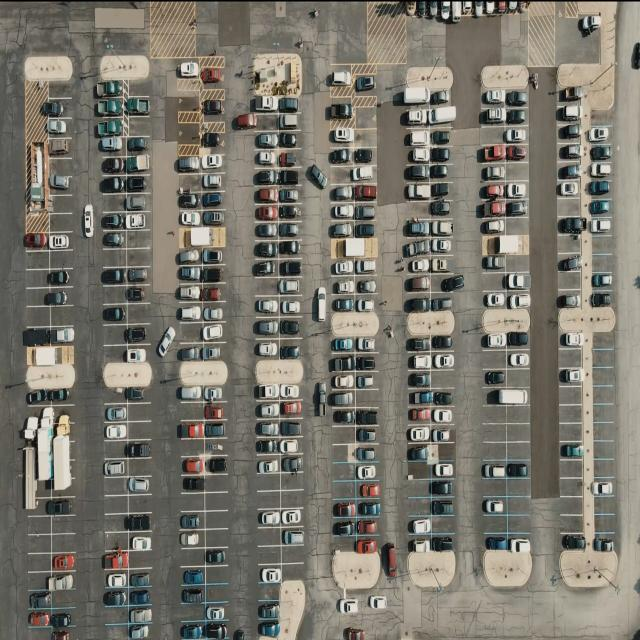space-empty: (26, 306, 52, 328), (50, 212, 76, 233), (126, 118, 153, 138), (253, 276, 280, 296), (197, 227, 224, 247), (354, 105, 377, 128), (103, 324, 128, 345), (50, 194, 76, 214), (178, 402, 204, 422), (505, 406, 531, 426), (125, 77, 152, 96), (125, 231, 152, 250), (404, 201, 431, 220), (128, 303, 151, 325), (51, 306, 75, 327), (178, 124, 202, 145), (101, 284, 126, 304), (27, 515, 52, 535), (481, 350, 506, 370), (508, 478, 533, 498), (508, 496, 533, 516), (177, 322, 202, 342), (506, 442, 531, 462), (557, 199, 583, 218), (479, 127, 505, 146), (104, 531, 130, 550), (28, 534, 54, 553), (332, 480, 358, 499), (26, 269, 50, 289), (103, 440, 127, 460), (28, 552, 52, 572), (560, 478, 584, 498), (259, 527, 283, 547), (332, 461, 356, 481), (206, 528, 230, 548), (129, 420, 153, 440), (482, 479, 507, 498), (557, 235, 582, 254), (179, 548, 204, 567), (179, 492, 204, 511), (482, 442, 507, 461), (103, 194, 128, 213), (103, 494, 128, 513), (407, 496, 432, 515), (408, 461, 434, 479), (179, 440, 205, 458), (126, 248, 152, 266), (559, 386, 582, 406), (590, 254, 613, 274), (593, 404, 616, 424), (130, 494, 153, 514), (592, 385, 615, 405), (259, 546, 282, 566), (105, 606, 132, 623), (559, 349, 583, 368), (506, 163, 530, 182), (560, 458, 584, 477), (104, 478, 128, 497), (206, 565, 230, 584), (26, 250, 50, 269), (508, 368, 532, 387), (259, 584, 283, 603), (592, 348, 616, 367), (508, 515, 532, 534), (104, 514, 128, 533), (333, 425, 357, 444), (48, 159, 72, 178), (558, 272, 582, 291), (592, 366, 616, 385), (205, 475, 229, 494), (130, 551, 154, 570), (206, 511, 230, 530), (592, 332, 616, 351), (205, 584, 229, 603), (102, 248, 127, 266), (255, 113, 280, 131), (432, 516, 457, 534), (51, 591, 76, 609), (482, 423, 507, 441), (505, 254, 530, 272), (106, 384, 131, 402), (592, 422, 614, 442), (593, 458, 615, 478), (177, 173, 200, 192), (355, 389, 378, 408), (51, 249, 74, 268), (407, 479, 430, 498), (506, 217, 529, 236), (280, 489, 303, 508), (560, 405, 583, 424), (28, 571, 51, 590), (281, 562, 304, 581), (591, 236, 615, 254), (280, 546, 304, 564), (206, 491, 230, 509), (52, 516, 76, 534), (482, 272, 506, 290), (330, 167, 354, 185), (506, 423, 530, 441), (129, 404, 153, 422), (258, 473, 282, 491), (54, 533, 78, 551), (129, 458, 153, 476), (180, 602, 204, 620), (27, 288, 51, 306), (258, 490, 282, 508), (48, 80, 72, 98), (559, 496, 583, 514), (483, 408, 507, 426), (560, 515, 584, 533), (333, 536, 358, 553), (593, 496, 615, 515), (594, 515, 616, 534), (593, 441, 615, 460), (104, 624, 130, 640), (280, 472, 303, 490), (590, 108, 613, 126), (431, 371, 454, 389), (204, 440, 227, 458), (484, 516, 508, 533), (177, 97, 201, 114), (354, 130, 376, 148), (332, 445, 354, 463), (560, 423, 582, 441), (434, 444, 456, 462), (104, 345, 127, 362), (29, 627, 53, 640)
space-occupied: (483, 385, 528, 406), (330, 99, 356, 123), (95, 97, 123, 119), (330, 65, 354, 90), (43, 98, 71, 119), (96, 117, 125, 137), (253, 338, 279, 360), (252, 317, 279, 338), (43, 118, 70, 139), (429, 105, 456, 126), (405, 238, 433, 258), (406, 274, 434, 294), (406, 294, 434, 314), (200, 64, 224, 87), (401, 89, 430, 108), (176, 58, 201, 80), (125, 96, 151, 117), (125, 155, 151, 176), (482, 494, 508, 515), (404, 106, 430, 127), (405, 181, 432, 201), (480, 163, 507, 183), (94, 78, 121, 98), (354, 72, 377, 95), (256, 296, 280, 318), (202, 96, 224, 120), (102, 304, 127, 325), (330, 126, 355, 147), (126, 136, 152, 156), (101, 267, 127, 287), (480, 106, 506, 126), (587, 178, 613, 198), (332, 497, 358, 517), (406, 217, 432, 237), (330, 388, 356, 408), (480, 180, 506, 200), (480, 144, 506, 164), (482, 367, 508, 387), (589, 288, 615, 308), (176, 282, 202, 302), (99, 137, 126, 156), (408, 443, 435, 462), (557, 216, 584, 235), (410, 387, 437, 406), (480, 200, 507, 219), (23, 328, 50, 347), (202, 128, 224, 151), (202, 321, 226, 342), (557, 288, 581, 309), (104, 551, 129, 571), (179, 512, 204, 532), (408, 516, 433, 536), (482, 458, 507, 478), (506, 273, 531, 293), (179, 529, 204, 549), (352, 165, 377, 185), (331, 371, 356, 391), (557, 103, 582, 123), (408, 423, 433, 443), (352, 444, 377, 464), (587, 126, 613, 145), (556, 178, 582, 197), (558, 332, 584, 351), (178, 420, 204, 439), (102, 211, 128, 230), (101, 157, 127, 176), (480, 217, 506, 236), (180, 621, 206, 640), (280, 296, 302, 318), (279, 339, 301, 361), (279, 320, 302, 341), (592, 532, 615, 553), (49, 176, 73, 196), (507, 349, 531, 369), (47, 138, 71, 158), (260, 564, 284, 584), (506, 179, 530, 199), (507, 459, 531, 479), (558, 254, 582, 274), (256, 130, 280, 150), (560, 441, 584, 461), (588, 216, 612, 236), (280, 526, 304, 546), (129, 441, 153, 461), (591, 478, 615, 498), (256, 454, 280, 474), (127, 283, 151, 303), (200, 172, 224, 192), (354, 424, 378, 444), (52, 570, 76, 590), (432, 350, 456, 370), (129, 531, 153, 551), (202, 282, 226, 302), (332, 352, 356, 372), (104, 568, 128, 588), (202, 304, 226, 324), (257, 400, 281, 420), (103, 404, 128, 423), (104, 421, 129, 440), (588, 161, 613, 180), (430, 479, 455, 498), (200, 154, 225, 173), (180, 456, 205, 475), (52, 610, 77, 629), (406, 128, 431, 147), (353, 462, 378, 481), (432, 256, 457, 275), (480, 333, 506, 351), (557, 125, 583, 143), (588, 199, 614, 217), (252, 260, 278, 278), (252, 95, 278, 113), (506, 290, 532, 308), (484, 532, 510, 550), (428, 534, 454, 552), (408, 408, 434, 426), (433, 274, 459, 292), (129, 476, 152, 496), (280, 454, 303, 474), (279, 276, 302, 296), (51, 495, 74, 515), (49, 286, 72, 306), (205, 454, 228, 474), (25, 232, 48, 252), (280, 508, 303, 528), (259, 508, 282, 528), (258, 620, 281, 640), (128, 267, 152, 286), (180, 566, 204, 585), (559, 368, 583, 387), (103, 231, 127, 250), (104, 458, 128, 477), (330, 148, 354, 167), (180, 475, 204, 494), (126, 211, 150, 230), (356, 498, 380, 517), (507, 332, 531, 351), (104, 587, 128, 606), (332, 408, 356, 427), (506, 199, 530, 218), (482, 288, 506, 307), (332, 202, 356, 221), (333, 336, 357, 355), (480, 90, 504, 109), (332, 276, 356, 295), (355, 481, 379, 500), (409, 351, 433, 370), (332, 295, 356, 314), (178, 304, 202, 323), (410, 370, 434, 389), (28, 610, 52, 629), (129, 514, 153, 533), (254, 240, 278, 259), (202, 343, 226, 362), (254, 184, 278, 203), (431, 294, 455, 313), (432, 460, 457, 478), (102, 175, 127, 193), (254, 221, 279, 239), (177, 248, 202, 266), (407, 257, 432, 275), (588, 144, 613, 162), (561, 532, 586, 550), (557, 87, 583, 104), (432, 217, 454, 237), (278, 148, 300, 168), (509, 532, 531, 552), (51, 269, 74, 288), (506, 143, 529, 162), (129, 568, 152, 587), (278, 221, 301, 240), (429, 200, 452, 219), (129, 588, 152, 607), (51, 326, 74, 345), (279, 418, 302, 437), (279, 399, 302, 418), (354, 275, 377, 294), (483, 255, 506, 274), (355, 535, 378, 554), (352, 146, 376, 164), (506, 107, 530, 125), (278, 260, 302, 278), (558, 142, 582, 160), (333, 518, 357, 536), (254, 149, 278, 167), (557, 162, 581, 180), (176, 156, 200, 174), (177, 266, 201, 284), (201, 210, 225, 228), (256, 204, 280, 222), (430, 497, 454, 515), (353, 184, 377, 202), (257, 438, 281, 456), (331, 220, 355, 238), (178, 385, 202, 403), (591, 272, 615, 290), (257, 419, 281, 437), (253, 168, 277, 186), (26, 387, 50, 405), (176, 343, 200, 361), (406, 165, 431, 182), (128, 324, 149, 344), (54, 553, 76, 572), (206, 548, 228, 567), (205, 419, 227, 438), (51, 232, 73, 251), (179, 209, 201, 228), (433, 424, 455, 443), (356, 517, 378, 536), (259, 601, 281, 620), (433, 406, 455, 425), (179, 191, 202, 209), (504, 127, 527, 145), (332, 184, 355, 202), (201, 191, 224, 209), (180, 586, 203, 604), (278, 204, 301, 222), (201, 247, 224, 265), (504, 91, 527, 109), (279, 241, 302, 259), (428, 90, 451, 108), (408, 145, 431, 163), (201, 266, 224, 284), (256, 384, 280, 401), (127, 175, 151, 192), (279, 96, 300, 115), (355, 352, 376, 371), (355, 256, 376, 275), (204, 621, 225, 640), (28, 592, 50, 610), (355, 372, 377, 390), (205, 602, 227, 620), (431, 145, 453, 163), (354, 204, 376, 222), (429, 128, 451, 146), (205, 403, 227, 421), (429, 182, 451, 200), (353, 221, 375, 239), (280, 438, 302, 456), (355, 409, 377, 427), (278, 185, 300, 203), (127, 344, 149, 362), (353, 296, 375, 314), (433, 387, 455, 405), (52, 385, 74, 403), (128, 194, 150, 212), (428, 165, 451, 182), (333, 260, 356, 277), (431, 238, 454, 255), (409, 534, 432, 551), (429, 336, 453, 352), (278, 131, 299, 149), (408, 337, 433, 352), (130, 608, 152, 625), (128, 386, 150, 403), (278, 170, 300, 187), (278, 113, 298, 131), (180, 142, 204, 157), (280, 384, 301, 401), (355, 337, 376, 354), (203, 386, 225, 402), (129, 624, 151, 640), (205, 411, 227, 426), (51, 628, 74, 640)
